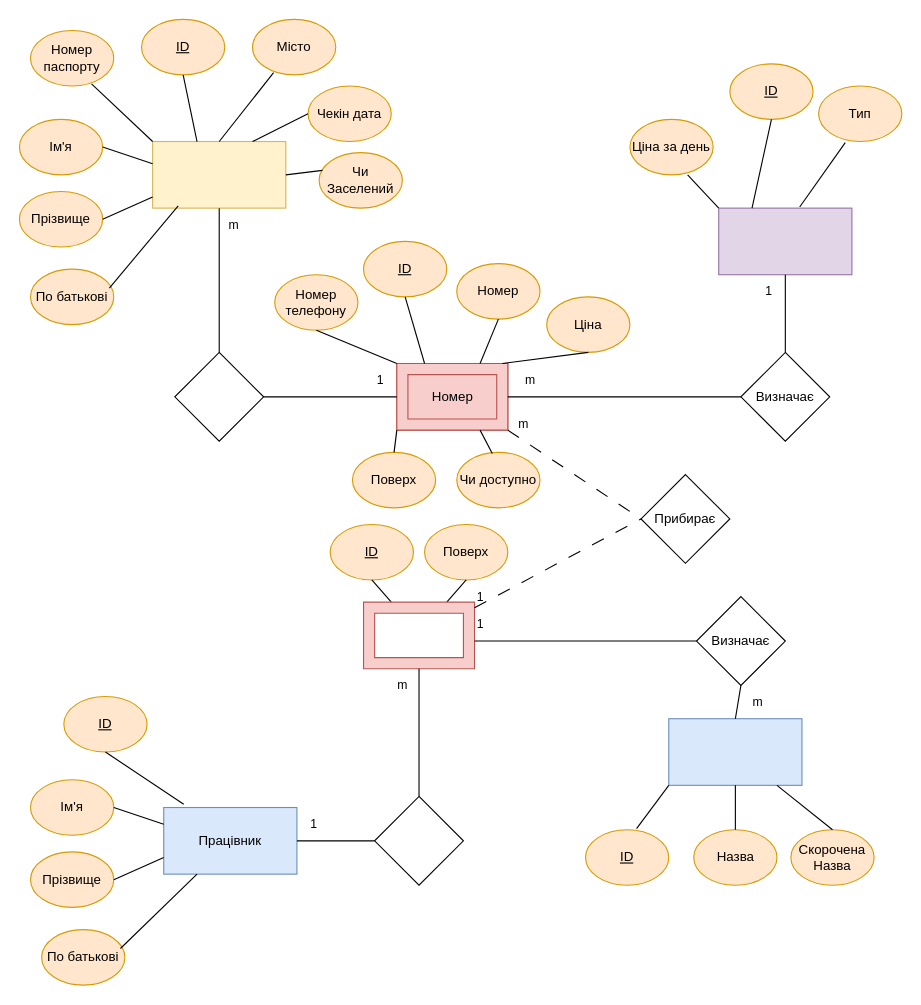
The diagram is 921 pixels wide and 1005 high, and some of its shapes have lost their labels. The box of each missing label's shape, as (x1, y1, x2, y2) in pixels:
Бронює: (174, 351, 264, 441)
Графік Прбирання: (362, 601, 475, 669)
День Тижня: (668, 718, 802, 785)
Клієнт: (152, 140, 286, 208)
Працює за: (374, 795, 463, 885)
Тип Номеру: (718, 207, 852, 275)
